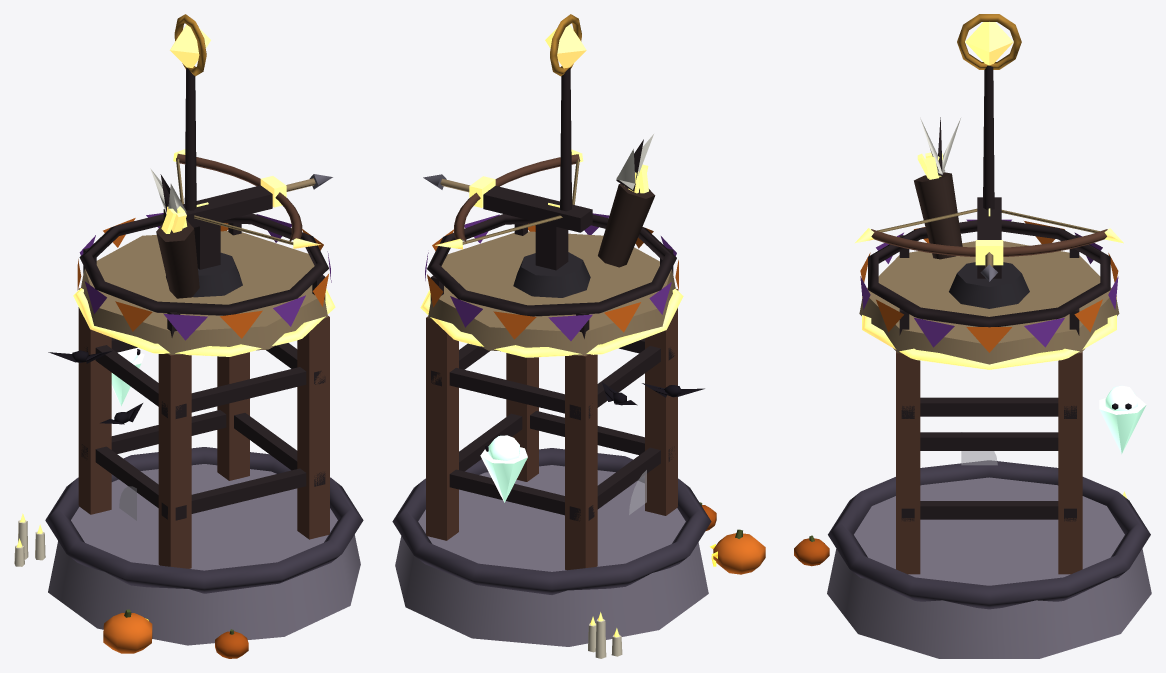
Rendered from tower_archer_eagleEye.glb.
3 views of the same model, side by side, from view 1: azimuth 30°, elevation 25°; view 2: azimuth 150°, elevation 25°; view 3: azimuth 270°, elevation 25° (orthographic).
Parts seen in each view (by area): view 1: base, deck, base_rim, post_wn, post_en, post_ws, rail, deco_hw_bunting, post_es, beam_x_0_n, beam_x_1_n, deck_band (+16 smaller); view 2: base, deck, base_rim, post_ws, post_es, post_wn, rail, deco_hw_bunting, quiver, stock, swivel, deck_band (+17 smaller); view 3: base, deck, base_rim, rail, post_en, post_es, deco_hw_bunting, beam_z_1_e, beam_z_0_e, beam_z_0_w, swivel, quiver (+11 smaller).
Part boxes in pixels (<box>): base: <box>48,464,360,645</box>; deck: <box>81,231,327,354</box>; base_rim: <box>45,447,363,593</box>; post_wn: <box>158,353,191,568</box>; post_en: <box>297,316,329,539</box>; post_ws: <box>78,288,111,514</box>; rail: <box>79,213,328,315</box>; deco_hw_bunting: <box>77,213,331,340</box>; post_es: <box>217,352,249,480</box>; beam_x_0_n: <box>161,468,306,519</box>; beam_x_1_n: <box>161,367,306,417</box>; deck_band: <box>73,288,335,356</box>; base: <box>395,465,708,646</box>; deck: <box>428,231,675,355</box>; base_rim: <box>392,448,711,594</box>; post_ws: <box>565,354,597,570</box>; post_es: <box>426,316,458,540</box>; post_wn: <box>645,289,677,515</box>; rail: <box>427,214,676,316</box>; deco_hw_bunting: <box>425,213,678,340</box>; quiver: <box>598,183,655,267</box>; stock: <box>483,186,592,232</box>; swivel: <box>513,252,590,297</box>; deck_band: <box>420,288,683,357</box>; base: <box>827,477,1151,658</box>; deck: <box>859,241,1119,364</box>; base_rim: <box>828,460,1150,609</box>; rail: <box>868,220,1110,327</box>; post_en: <box>896,351,920,574</box>; post_es: <box>1058,352,1082,574</box>; deco_hw_bunting: <box>860,219,1118,352</box>; beam_z_1_e: <box>920,397,1058,416</box>; beam_z_0_e: <box>920,501,1058,519</box>; beam_z_0_w: <box>920,432,1058,450</box>; swivel: <box>949,262,1029,308</box>; quiver: <box>914,172,962,259</box>.
Size of the model in its own units: 0.4215 by 0.778 by 0.4404.
